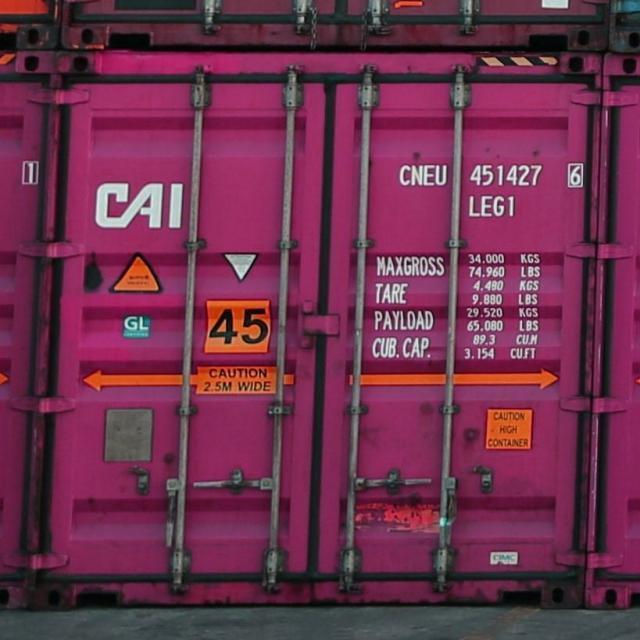ISO: (468, 194, 518, 217)
container_number: (402, 162, 576, 187)
